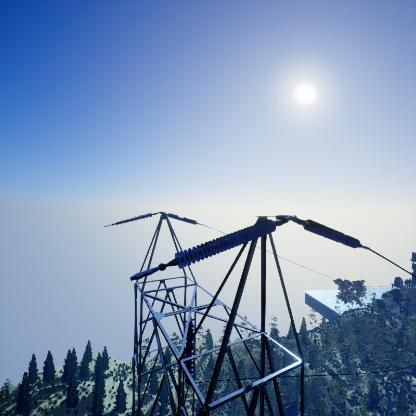insulator: (173, 219, 277, 268), (302, 219, 362, 249), (104, 209, 158, 232), (159, 206, 199, 227)
